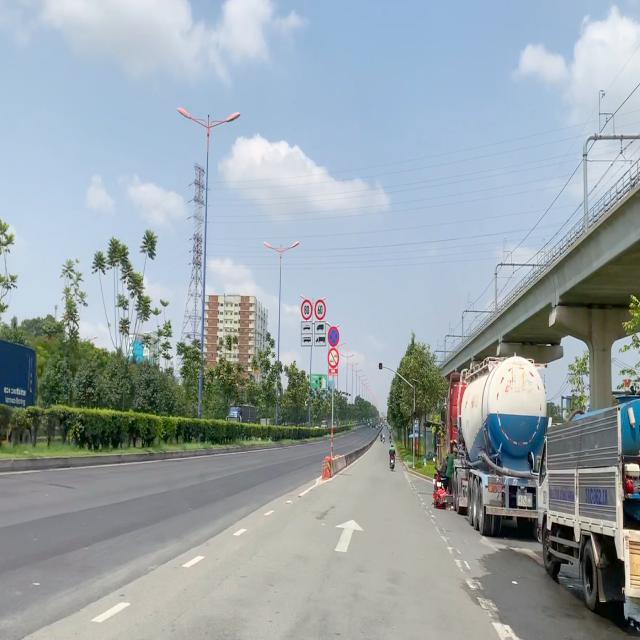Cam dung va do: (328, 326, 340, 347)
Toc do toi da: (300, 299, 313, 321), (314, 298, 326, 320)
